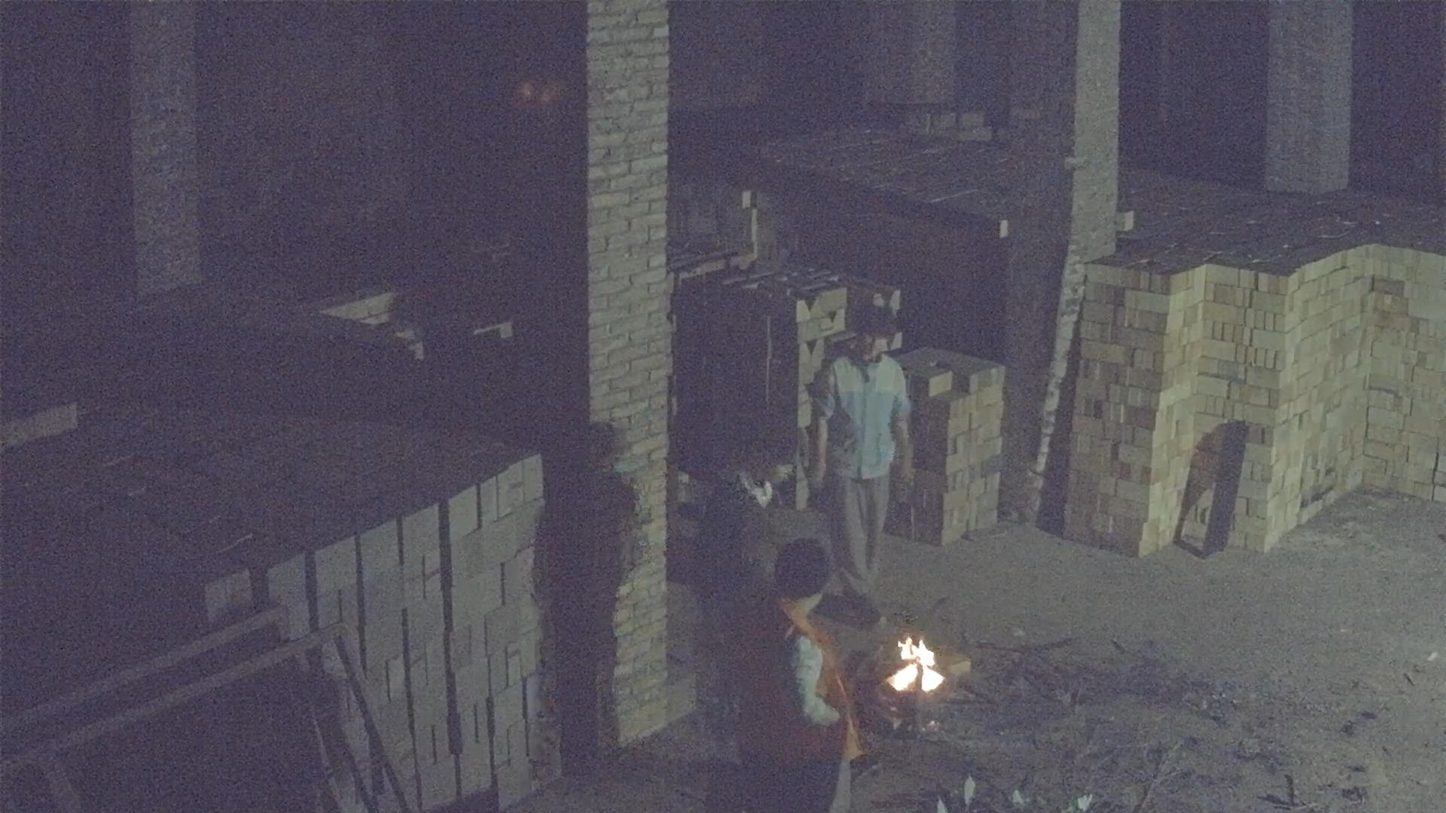fire: (887, 638, 944, 692)
